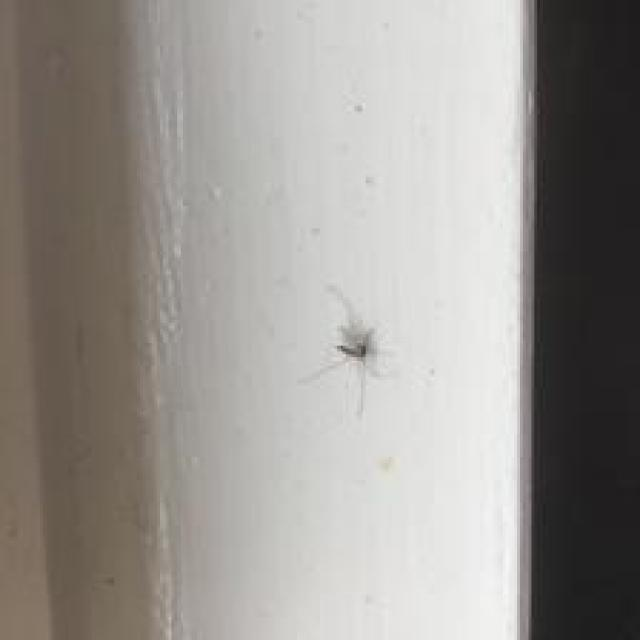Culex: (298, 284, 396, 416)
